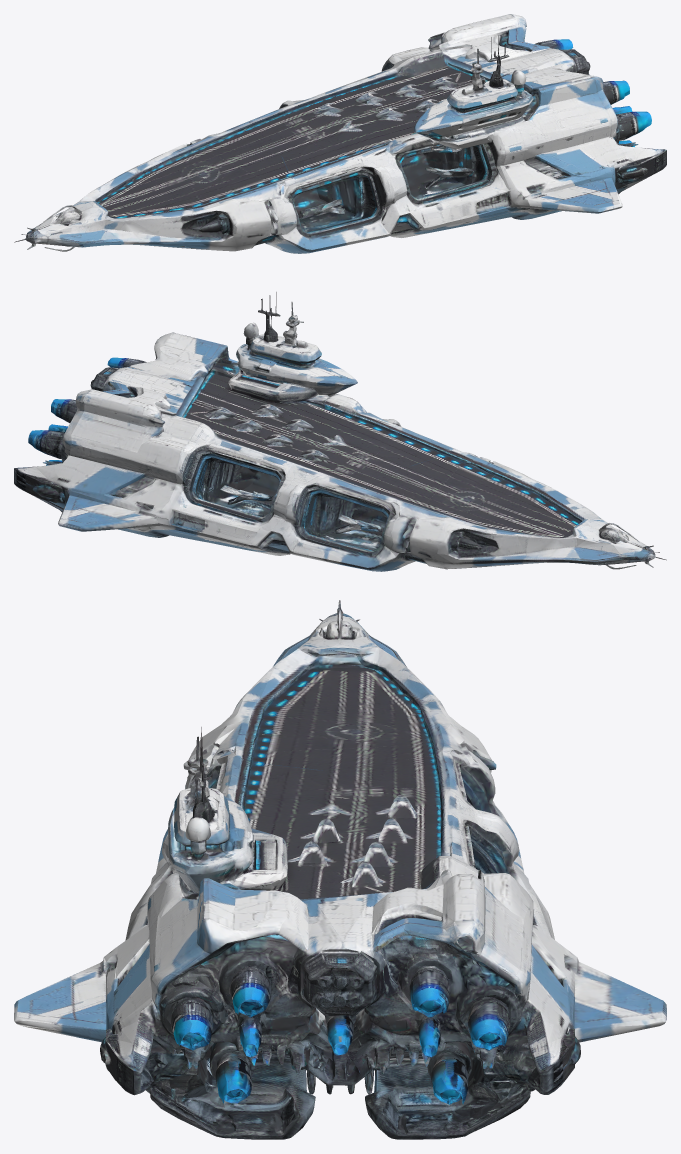
Rendered from ship_carrier.glb.
The picture shows the model from 3 angles, top to bottom: view 1: azimuth 30°, elevation 25°; view 2: azimuth 150°, elevation 25°; view 3: azimuth 270°, elevation 25°; orthographic projection. The views are drawn at different scales.
Visible parts, largest first — view 1: Mesh_0; view 2: Mesh_0; view 3: Mesh_0.
Boxes of the visible parts, x1,y1,x2,y2 form: Mesh_0: [14, 14, 666, 253]; Mesh_0: [14, 292, 666, 571]; Mesh_0: [14, 600, 666, 1139].
Bounding box in the file's own units: 1.9 × 0.642 × 1.15.
Materials: 1 (1 with a texture image).
